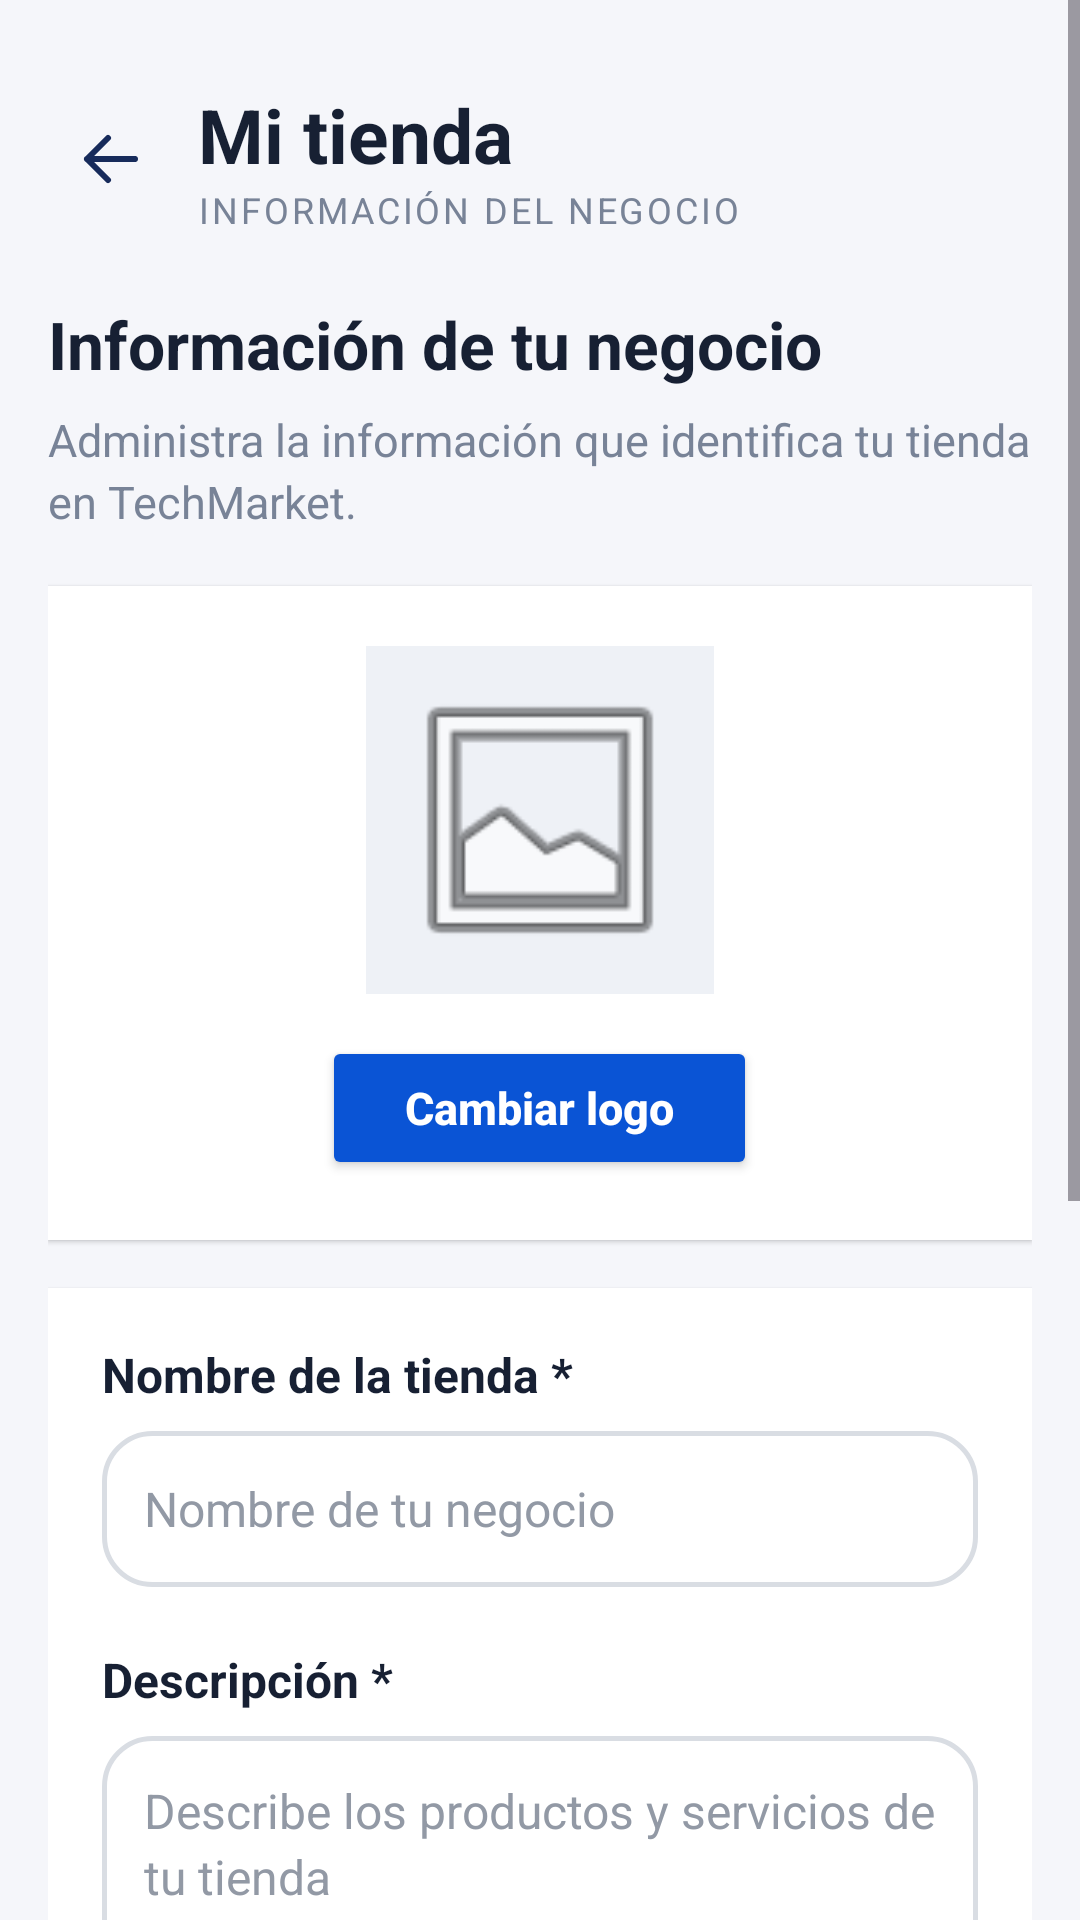

Screen size 1080*1920. Icon name, then its center in pixels as (x,y):
Volver: (111,159)
